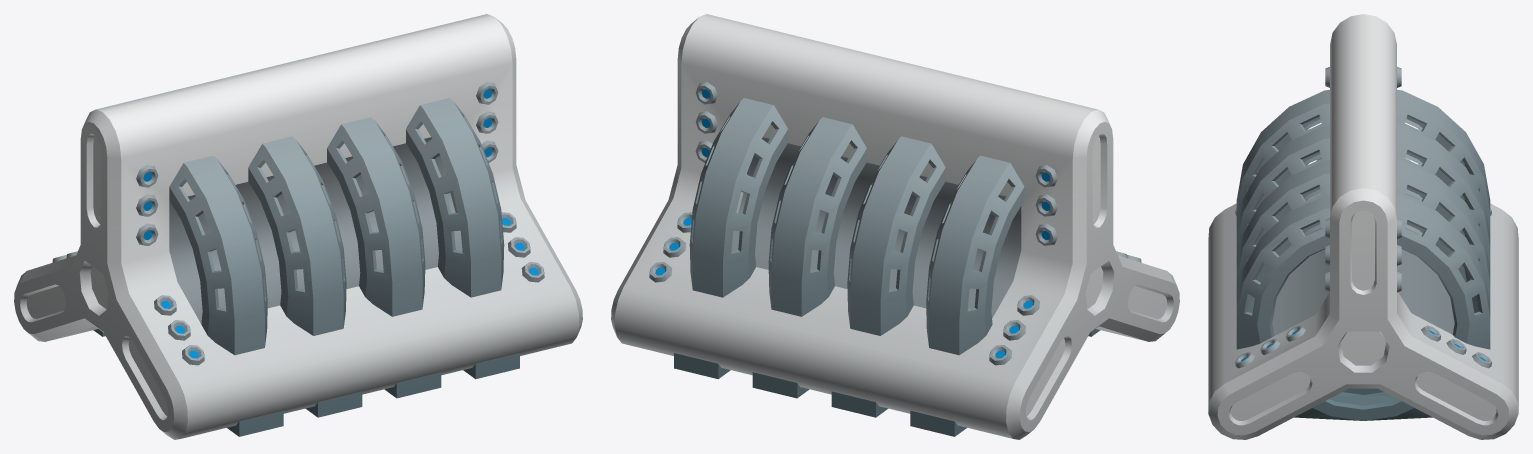
The model's file is Generator_002.fbx.
3 renders of one model, left to right at view 1: azimuth 30°, elevation 25°; view 2: azimuth 150°, elevation 25°; view 3: azimuth 270°, elevation 25°, orthographic. The views are drawn at different scales.
Parts seen in each view (by area): view 1: Generator_002; view 2: Generator_002; view 3: Generator_002.
Part boxes in pixels (<box>): Generator_002: <box>14,14,582,439</box>; Generator_002: <box>611,14,1179,439</box>; Generator_002: <box>1208,14,1518,439</box>.
Size of the model in its own units: 367 by 265 by 240.
